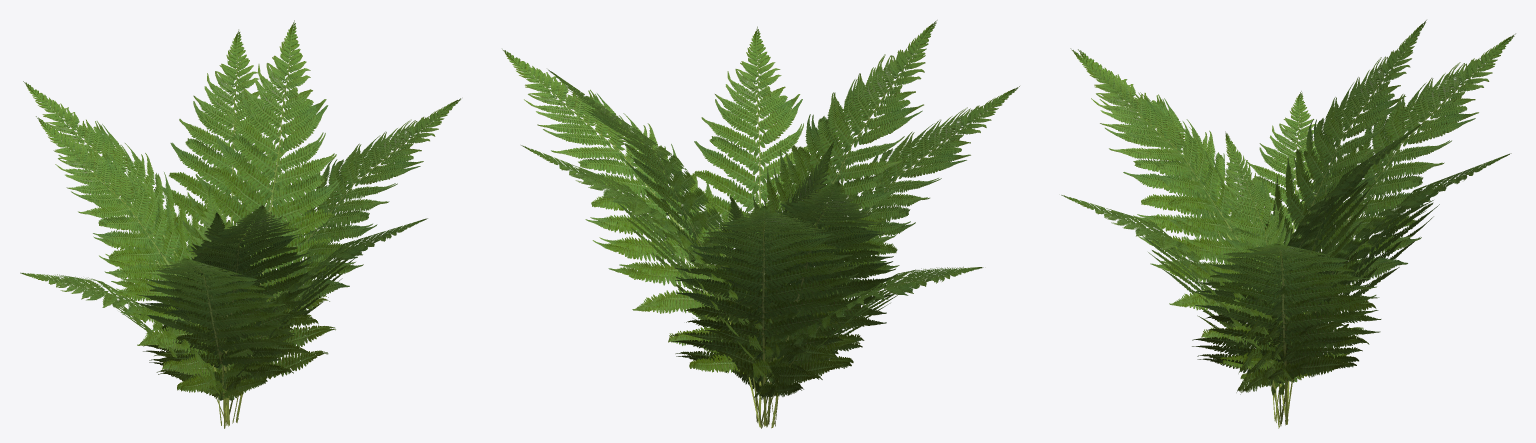
File: BSwap_FernModels_01.fbx
The picture shows the model from 3 angles, left to right: view 1: azimuth 30°, elevation 25°; view 2: azimuth 150°, elevation 25°; view 3: azimuth 270°, elevation 25°; orthographic projection. The views are drawn at different scales.
Visible parts, largest first — view 1: Fern_01, Fern_01_LoD; view 2: Fern_01, Fern_01_LoD; view 3: Fern_01, Fern_01_LoD.
Boxes of the visible parts, x1,y1,x2,y2 form: Fern_01: [20, 20, 460, 425]; Fern_01_LoD: [20, 29, 458, 428]; Fern_01: [502, 20, 1019, 428]; Fern_01_LoD: [504, 21, 1017, 428]; Fern_01: [1062, 20, 1515, 425]; Fern_01_LoD: [1061, 23, 1513, 428].
Bounding box in the file's own units: 130 × 93 × 104.
Materials: 1 (1 with a texture image).
